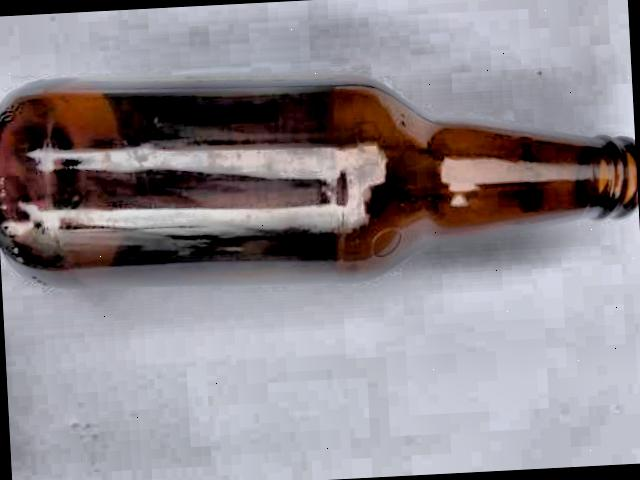Bottles: (0, 40, 640, 305)
